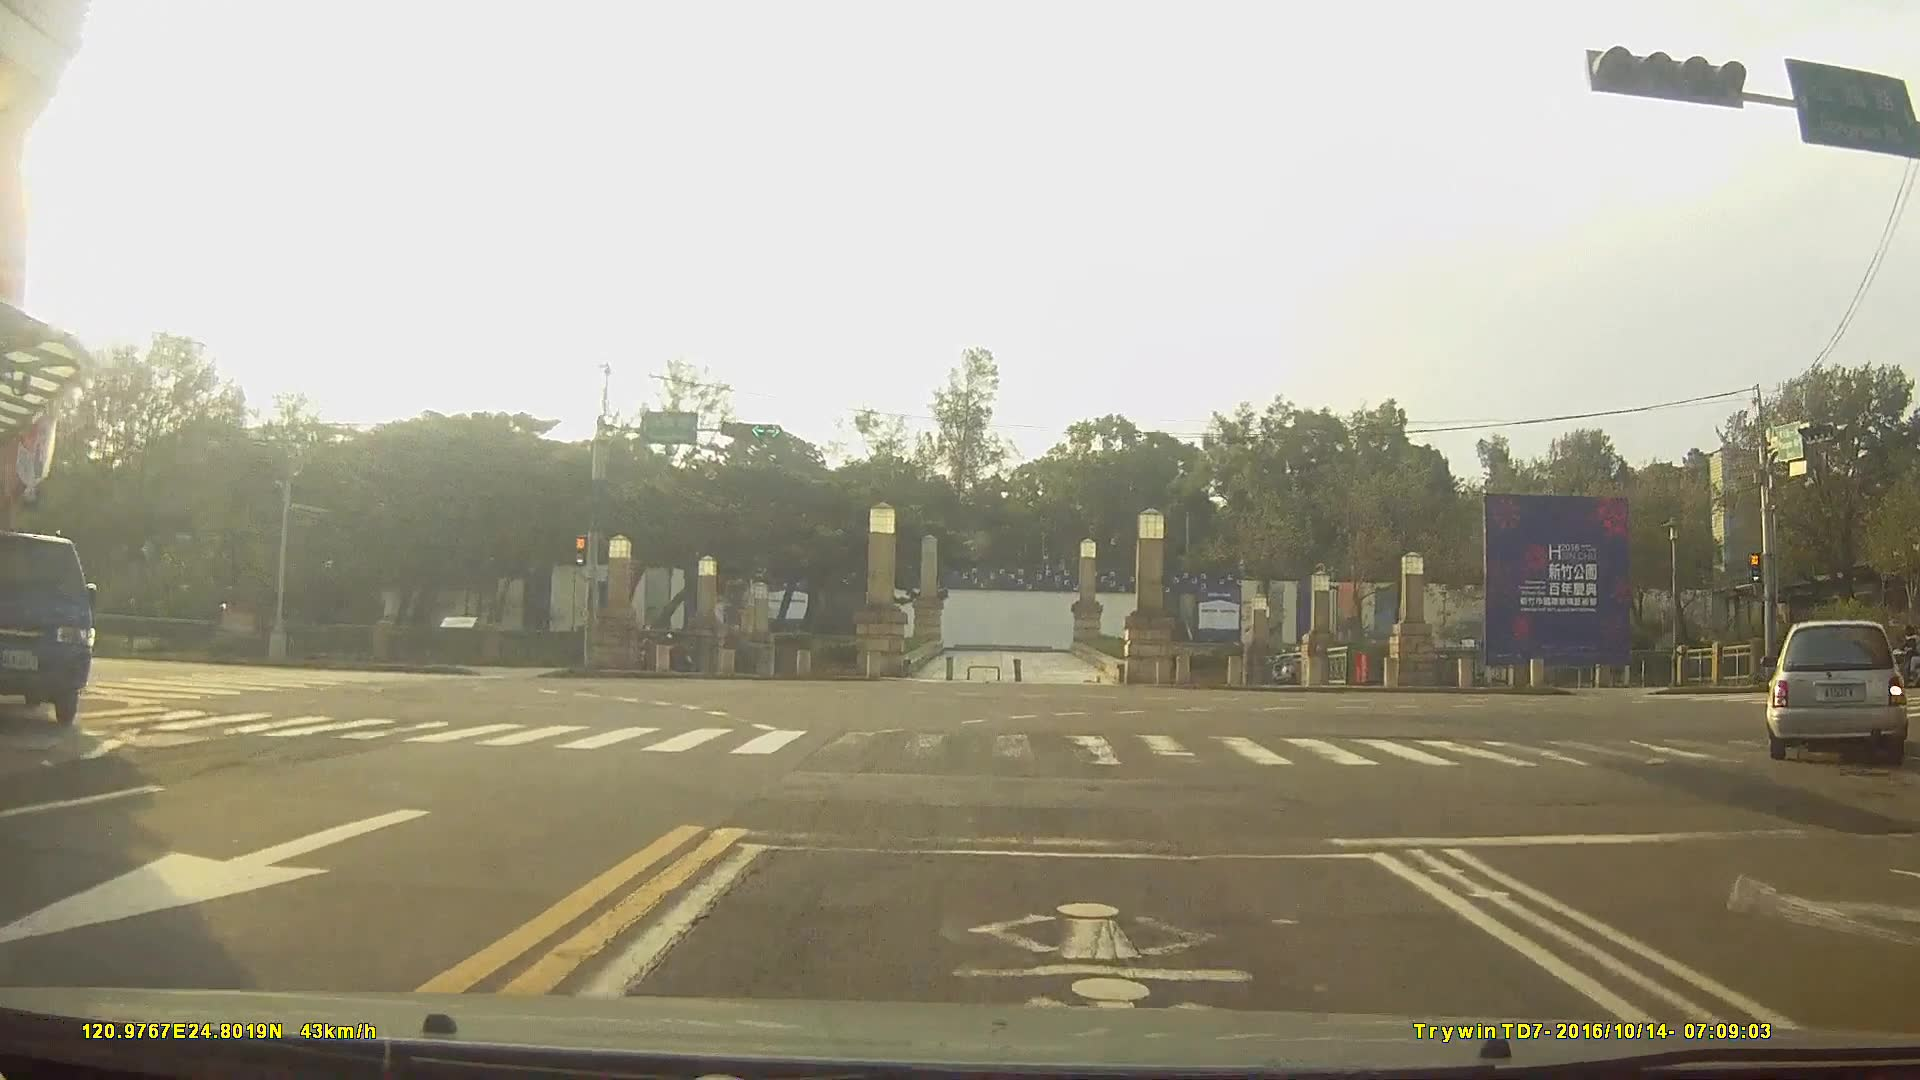vehicle: (1764, 617, 1905, 760), (0, 526, 95, 727)
